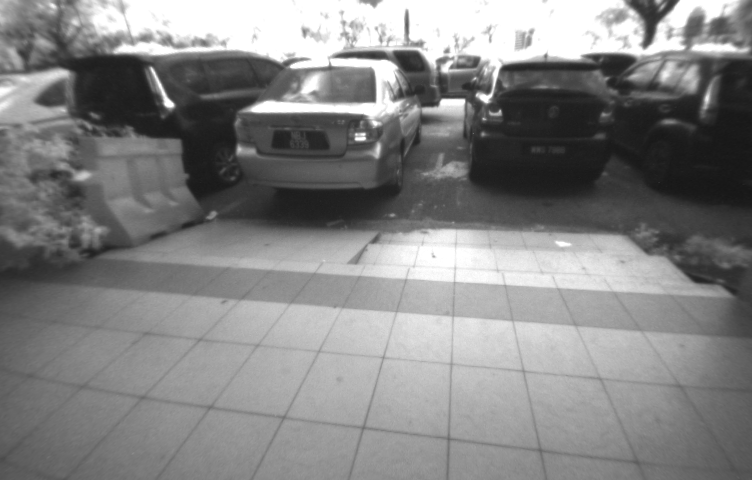down_steps: (346, 223, 745, 312)
mixed_gradient: (317, 214, 407, 289)
